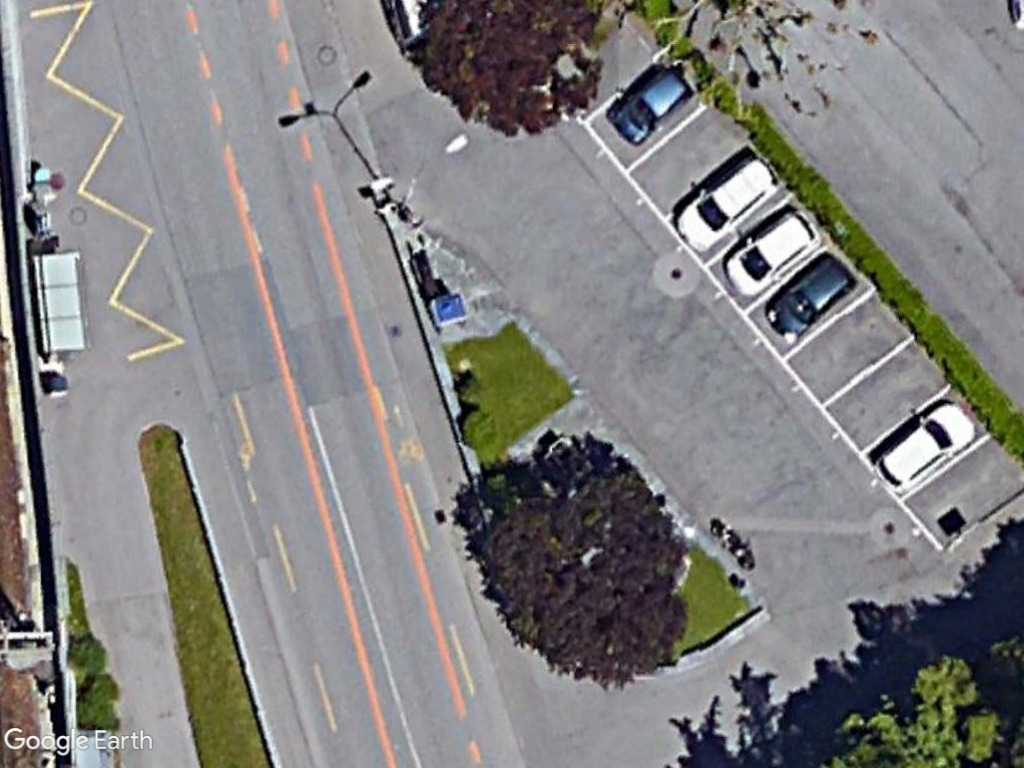car: (673, 152, 782, 251), (871, 399, 978, 493), (721, 208, 818, 297), (764, 252, 862, 339), (610, 64, 697, 146)
